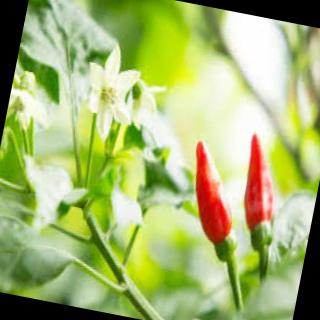Cabai Merah: (194, 142, 232, 246), (243, 135, 276, 231)
